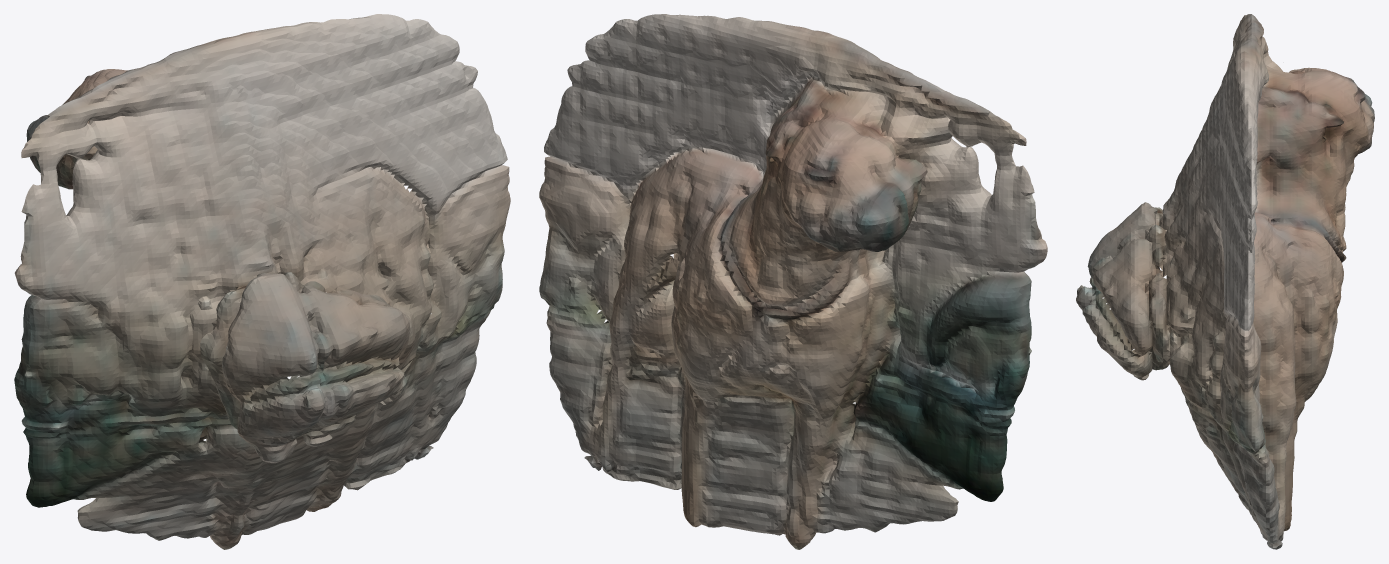
3 renders of one model, left to right at view 1: azimuth 30°, elevation 25°; view 2: azimuth 150°, elevation 25°; view 3: azimuth 270°, elevation 25°, orthographic. The views are drawn at different scales.
Parts seen in each view (by area): view 1: world; view 2: world; view 3: world.
Part boxes in pixels (bbox=[...]): world: bbox=[14, 14, 510, 549]; world: bbox=[539, 14, 1047, 549]; world: bbox=[1076, 14, 1374, 549].
Size of the model in its own units: 0.9475 by 0.9312 by 0.5746.
